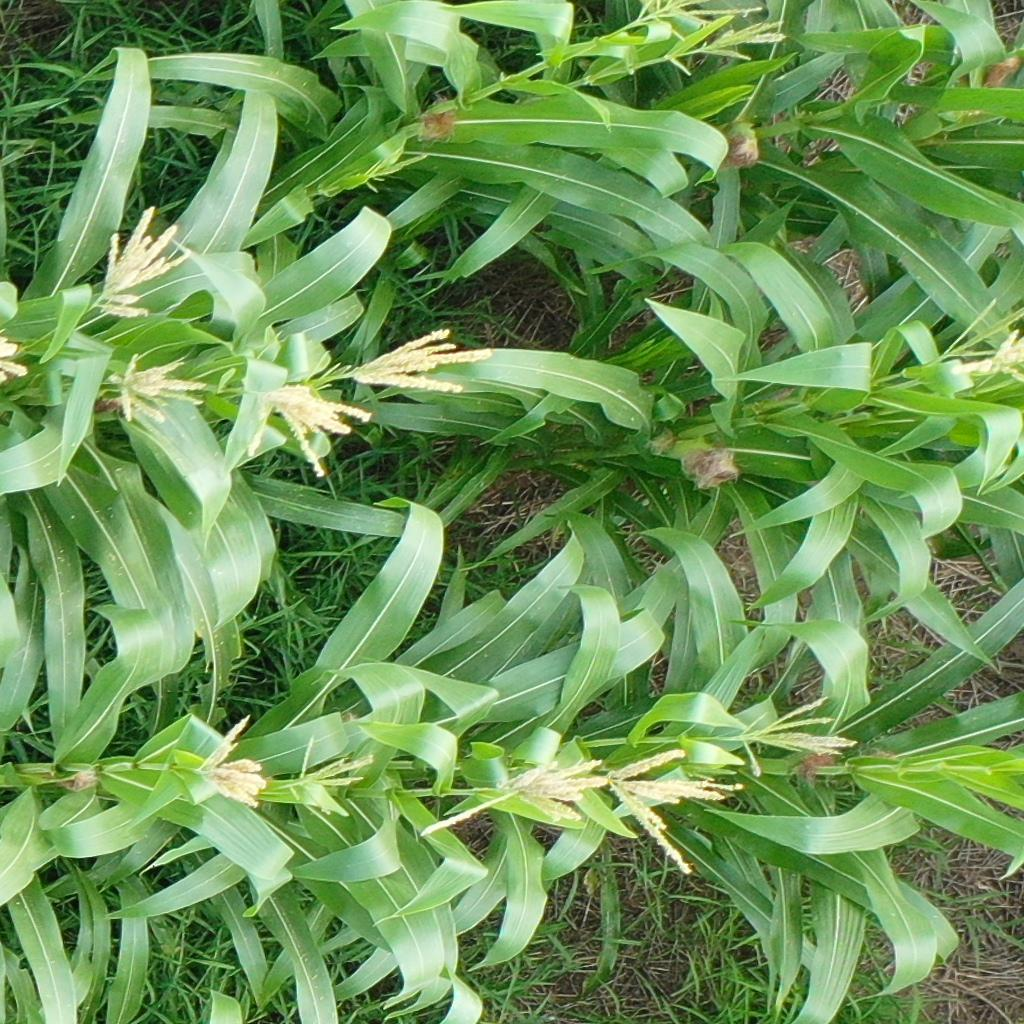Tassel: (609, 748, 744, 877), (421, 757, 613, 841), (249, 384, 374, 482), (97, 206, 191, 322), (742, 693, 859, 778), (354, 329, 494, 395), (191, 711, 273, 813), (109, 353, 206, 425), (289, 737, 375, 808), (638, 1, 764, 43), (941, 296, 1024, 357), (697, 19, 788, 68), (951, 332, 1024, 384), (361, 149, 428, 199), (301, 351, 352, 403), (1, 327, 27, 388)
